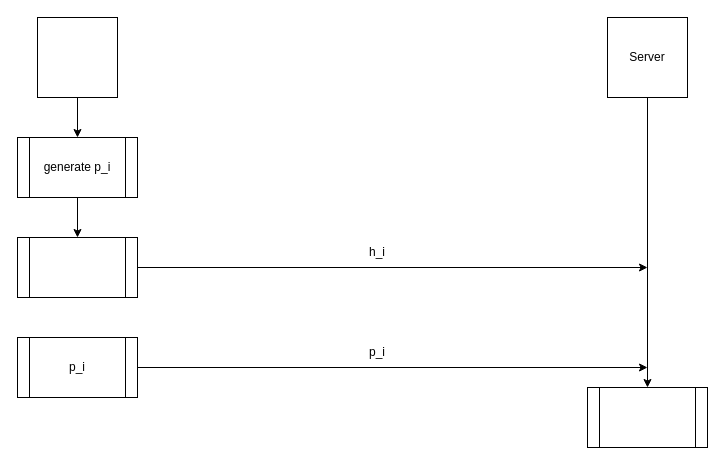
This 725x465 diagram has some shape labels left out. Here are the shapes that lost their labels. From the top down, the centre of each, then its label:
At [77,57]: "Client".
At [77,267]: "h_i = H1(p_i)".
